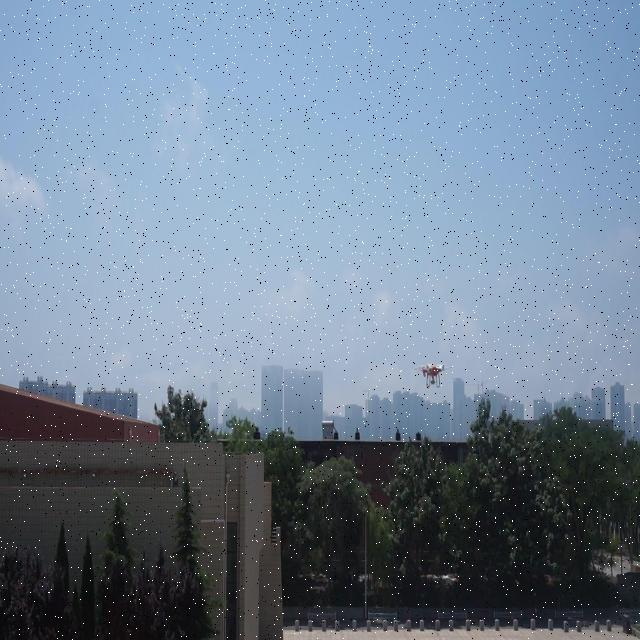UAV: (414, 362, 453, 388)
